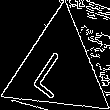L_NE: (33, 39, 83, 99)
